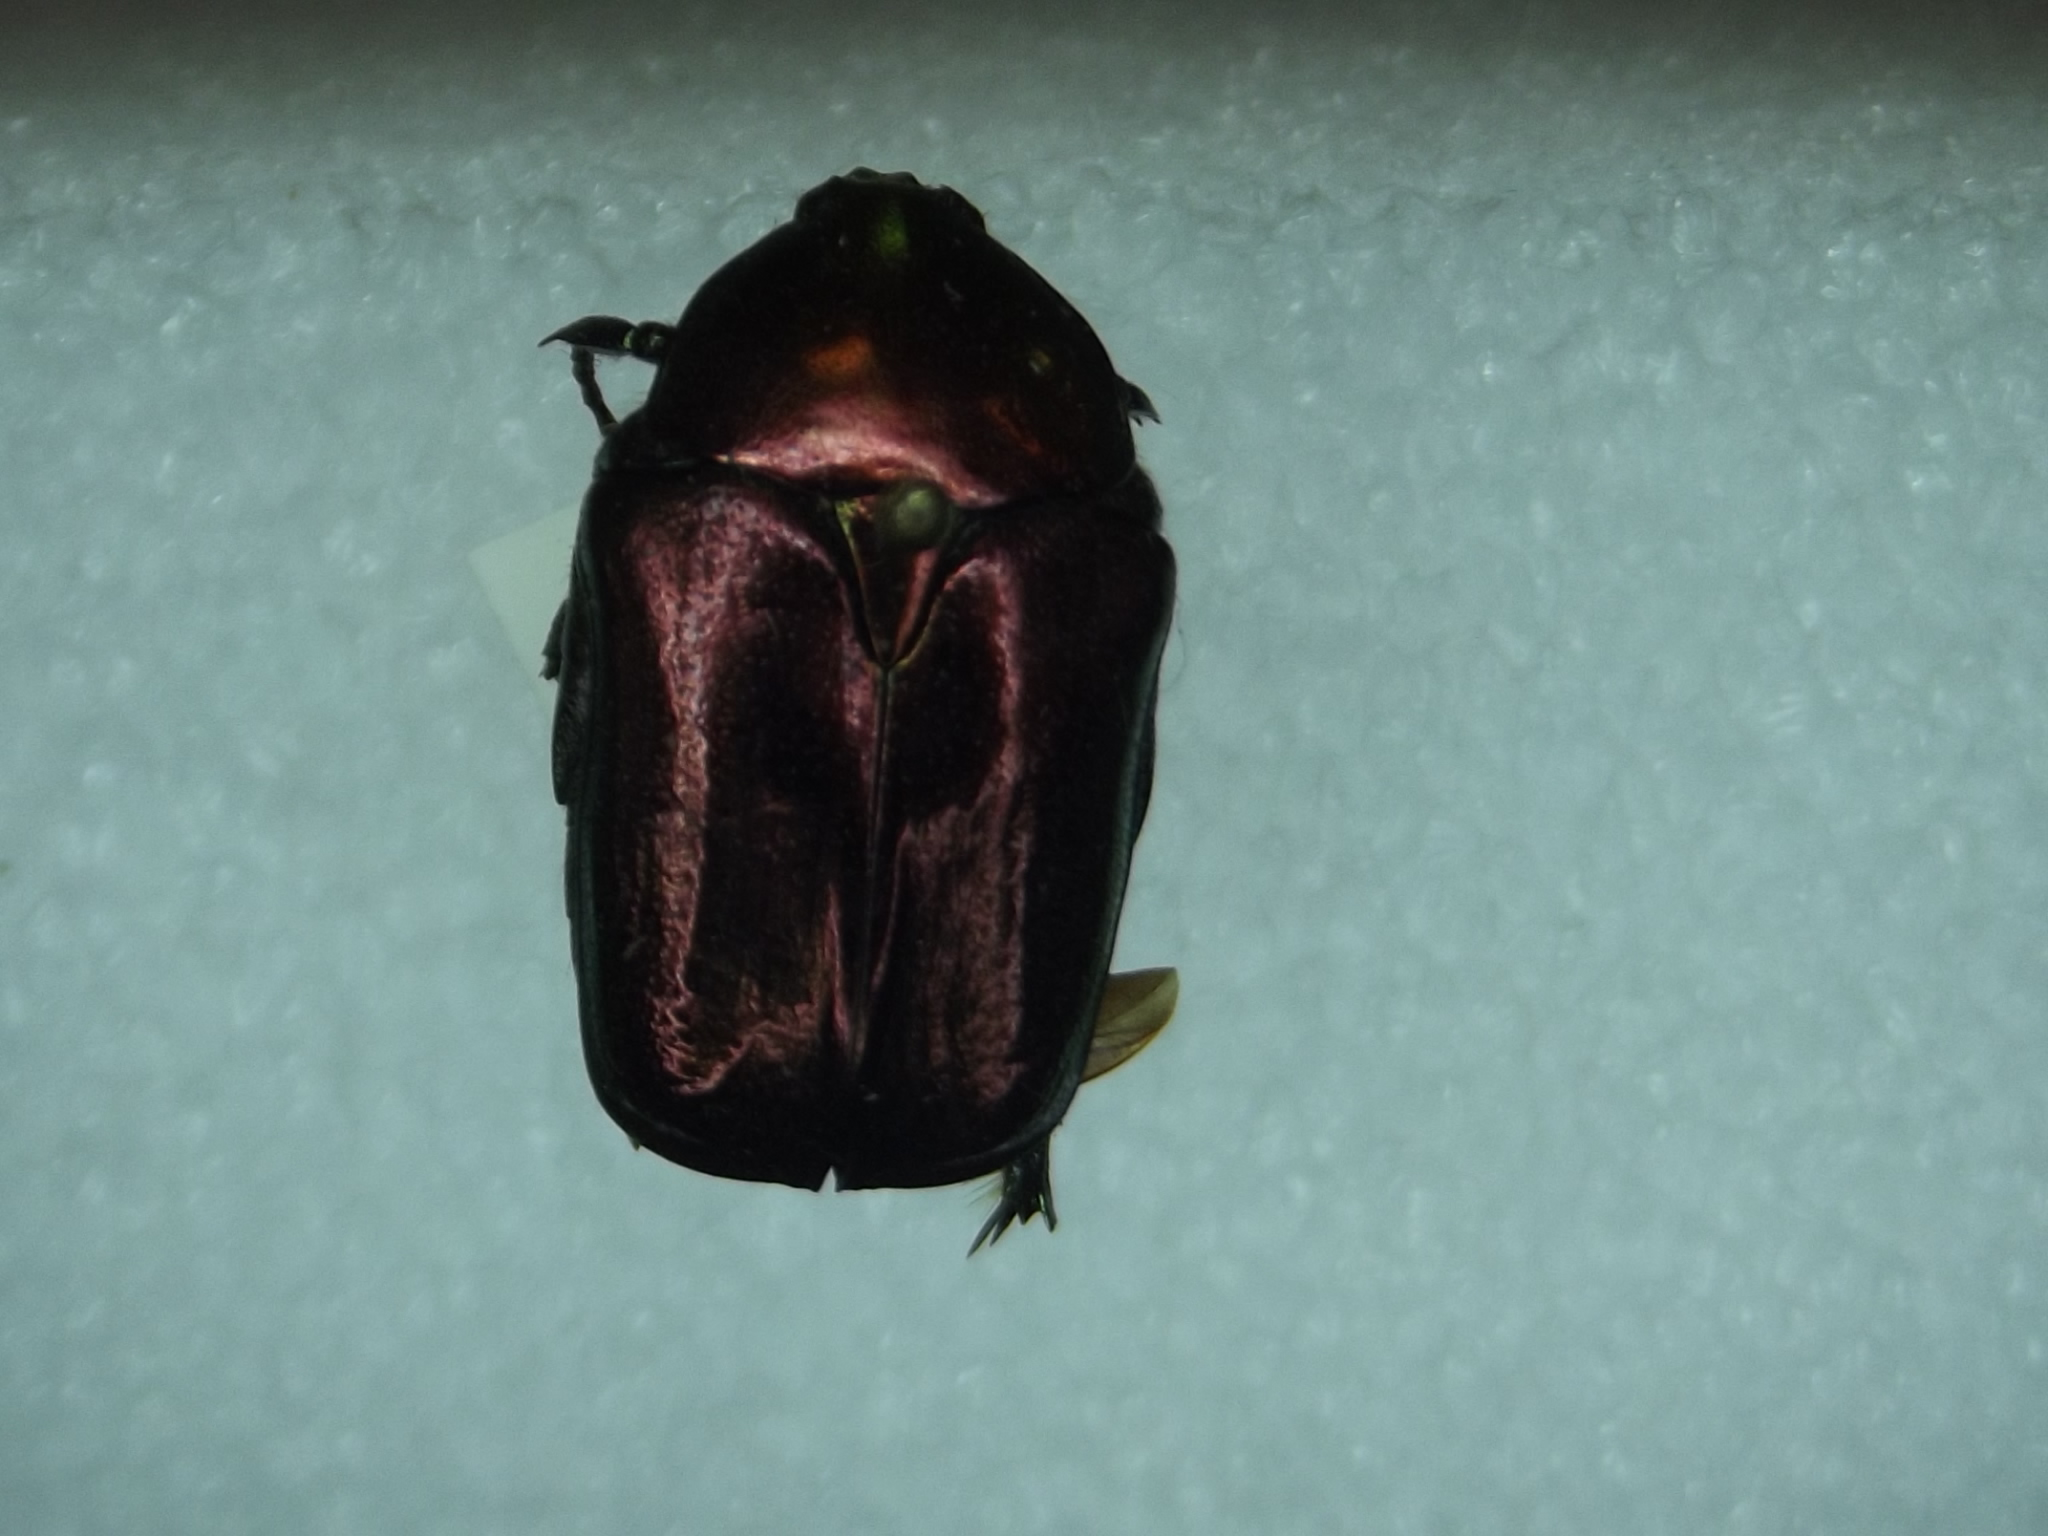Protaetia_cuprea_ignicollis: (498, 145, 1218, 1275)
